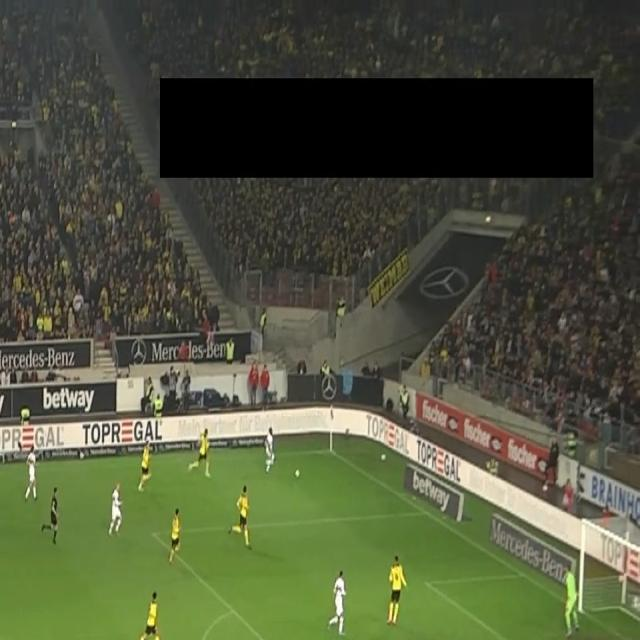ball: (294, 466, 301, 479)
